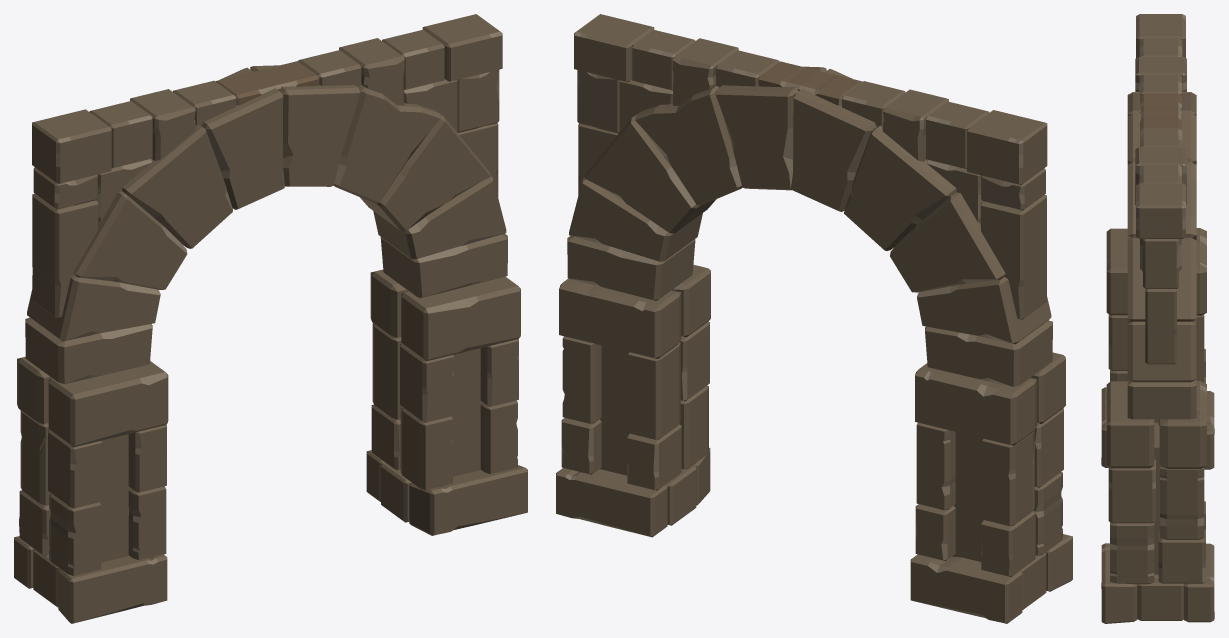
The model's file is Arch.glb.
3 views of the same model, side by side, from view 1: azimuth 30°, elevation 25°; view 2: azimuth 150°, elevation 25°; view 3: azimuth 270°, elevation 25° (orthographic). The views are drawn at different scales.
Parts seen in each view (by area): view 1: Arch; view 2: Arch; view 3: Arch.
Part boxes in pixels (bbox=[...]): Arch: bbox=[14, 14, 527, 623]; Arch: bbox=[556, 14, 1072, 623]; Arch: bbox=[1101, 14, 1214, 623].
Size of the model in its own units: 1.72 by 1.68 by 0.4169.
